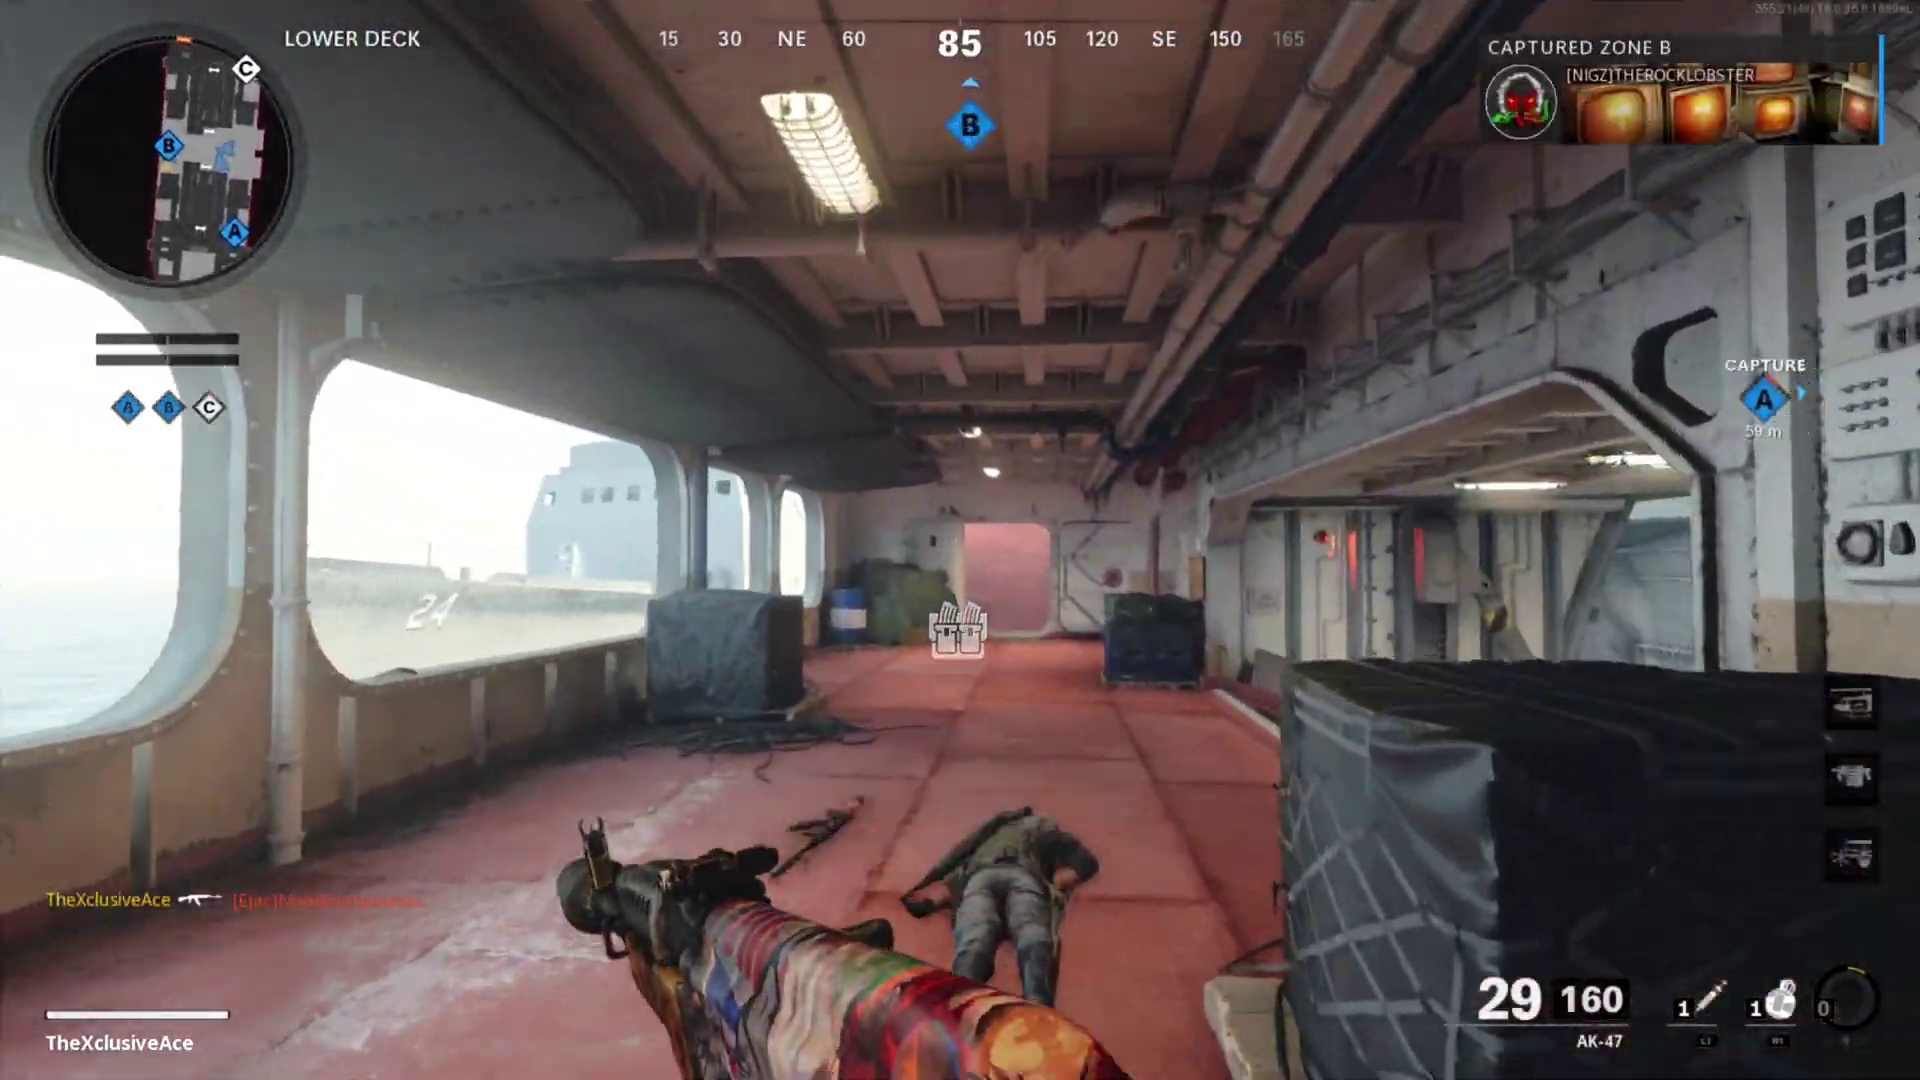person: (896, 804, 1098, 1002)
